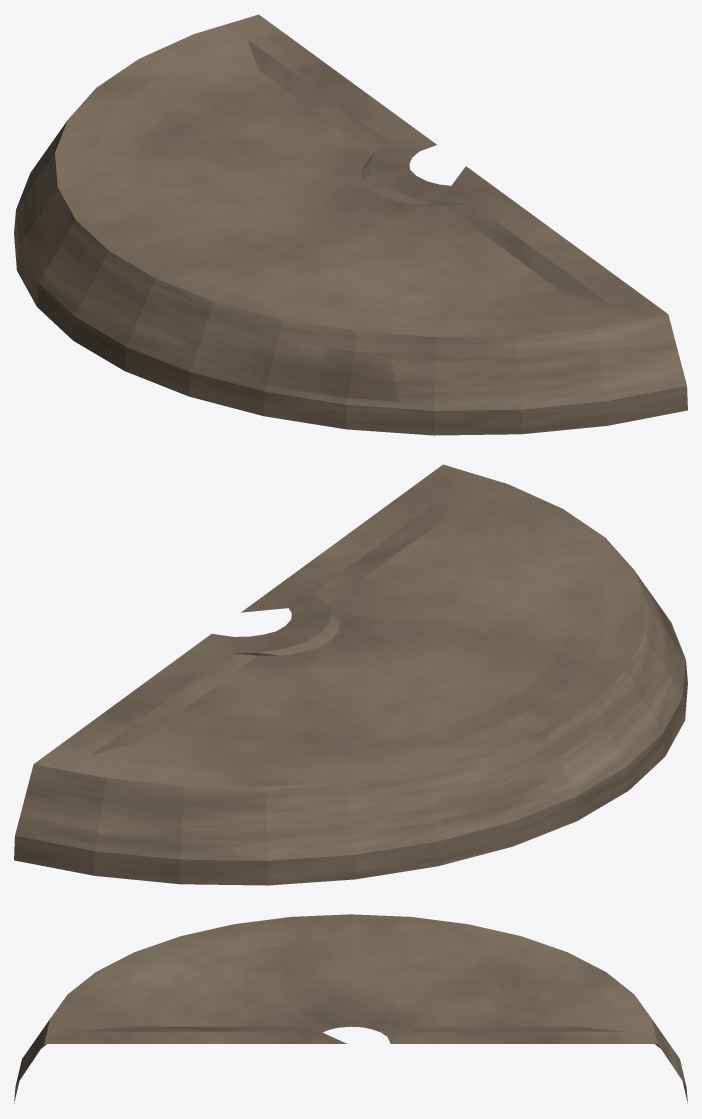
Rendered from keypad cover left.glb.
The picture shows the model from 3 angles, top to bottom: view 1: azimuth 30°, elevation 25°; view 2: azimuth 150°, elevation 25°; view 3: azimuth 270°, elevation 25°; orthographic projection. The views are drawn at different scales.
Parts seen in each view (by area): view 1: Keypad cover; view 2: Keypad cover; view 3: Keypad cover.
Part boxes in pixels (x1,y1,x2,y2): Keypad cover: (14,14,687,435); Keypad cover: (14,464,687,885); Keypad cover: (14,914,687,1103).
Size of the model in its own units: 0.7344 by 0.146 by 1.47.
Materials: 1 (1 with a texture image).
